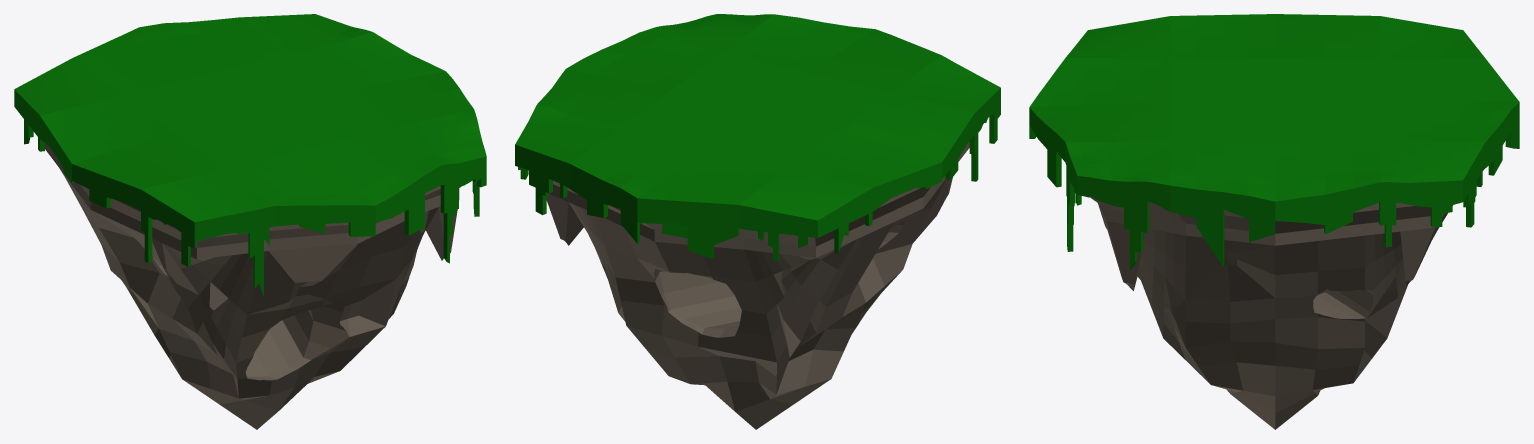
The model's file is ISLAND.gltf.
The picture shows the model from 3 angles, left to right: view 1: azimuth 30°, elevation 25°; view 2: azimuth 150°, elevation 25°; view 3: azimuth 270°, elevation 25°; orthographic projection. The views are drawn at different scales.
Visible parts, largest first — view 1: GRASS, ISLAND; view 2: GRASS, ISLAND; view 3: GRASS, ISLAND.
Boxes of the visible parts, x1,y1,x2,y2 form: GRASS: (14, 14, 486, 295); ISLAND: (45, 143, 461, 429); GRASS: (515, 14, 1000, 261); ISLAND: (546, 141, 969, 429); GRASS: (1029, 14, 1519, 270); ISLAND: (1090, 197, 1452, 429).
Size of the model in its own units: 60.27 by 49.32 by 66.04.
